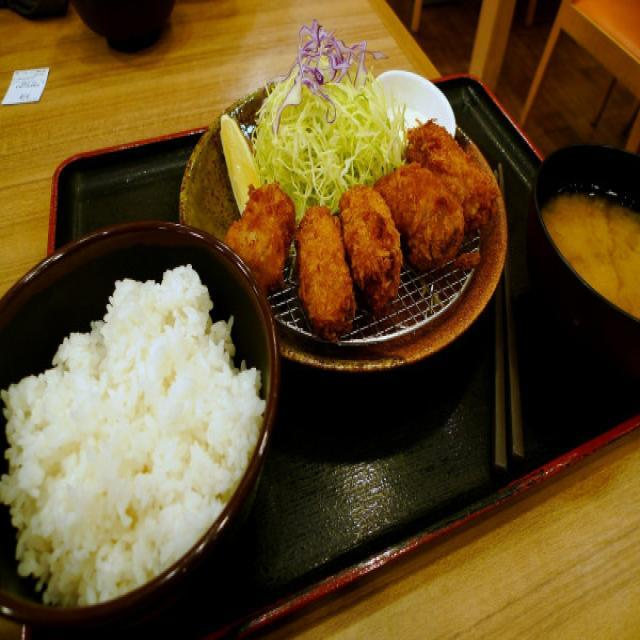Green Salad: (257, 20, 404, 194)
Rice: (0, 252, 268, 593)
